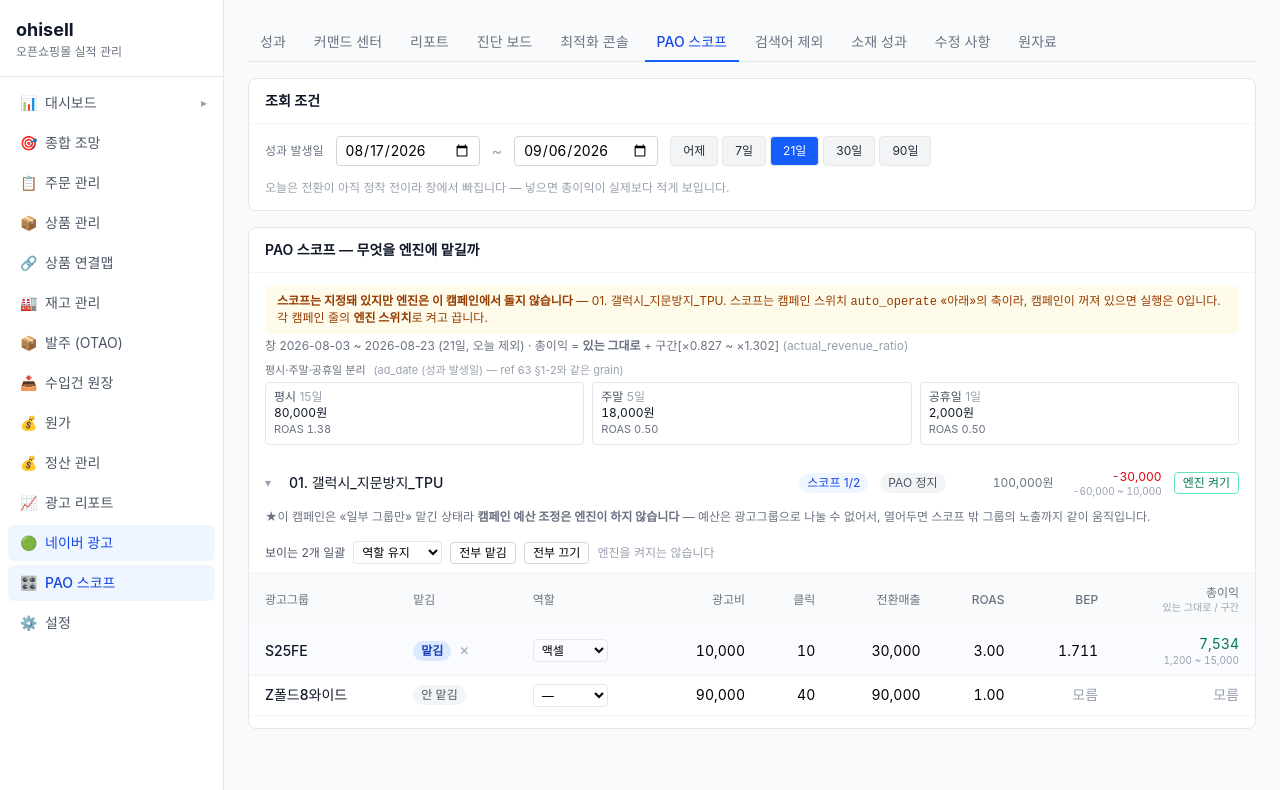
Scenario: ★H1 엔진 스위치 — 켜는 손·끄는 손이 실제로 있고, 켜기 전에 무엇이 열리는지 말한다 › SUR-12·13: 켜기를 누르면 «먼저» 확인창이 뜨고 경고 문구가 화면 픽셀이 된다
What coordinates should you click on to do the following:
click the button "엔진 켜기"
I would click on:
 (1206, 483)
Its box is [1174,472,1239,494].
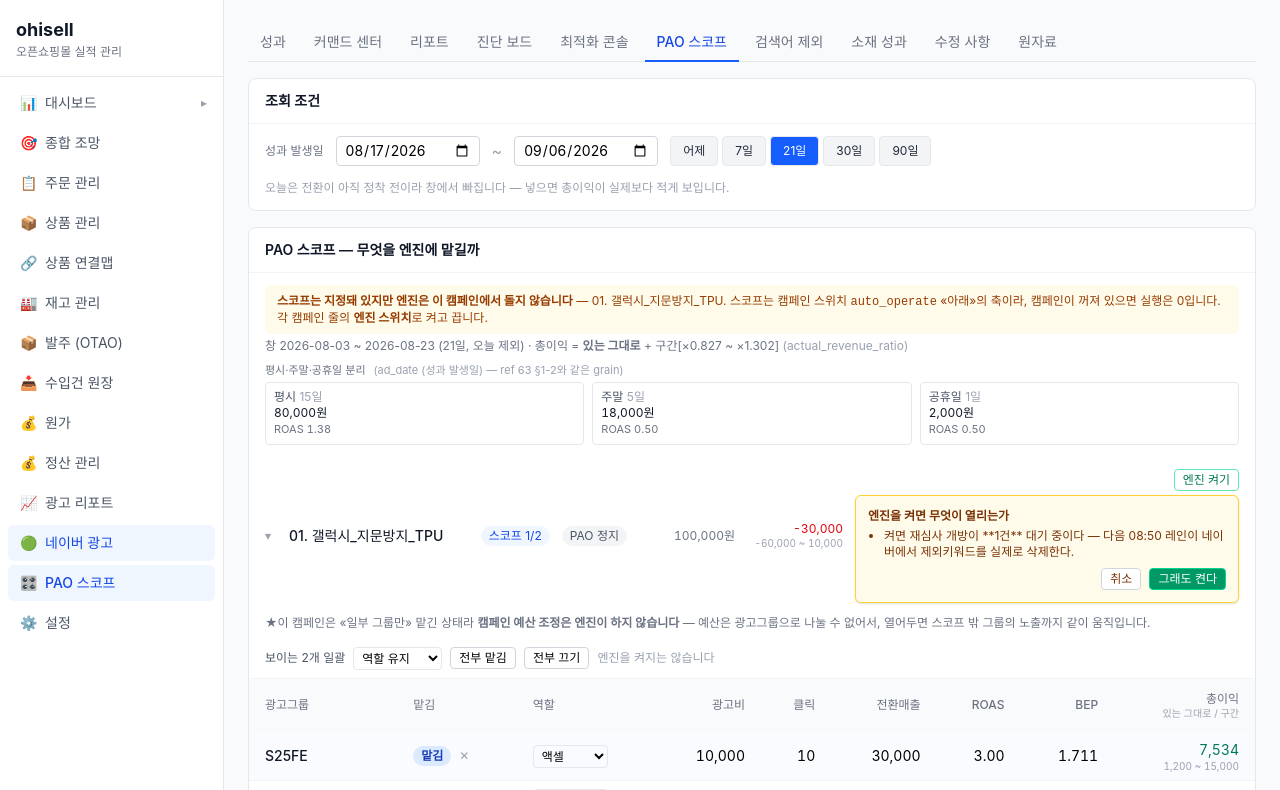
expect the list item "재심사 개방이" is shown: met, box [884,528,1224,558]
expect the button "그래도 켠다" is shown: met, box [1149,568,1226,590]
